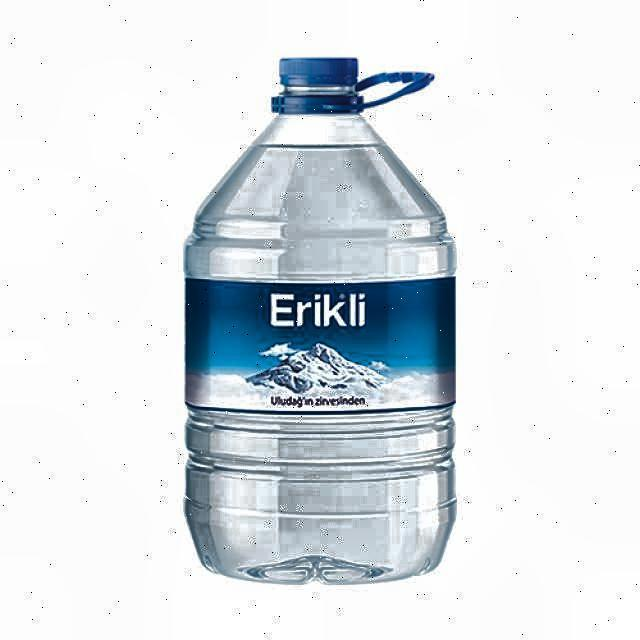plastic: (184, 56, 460, 590)
